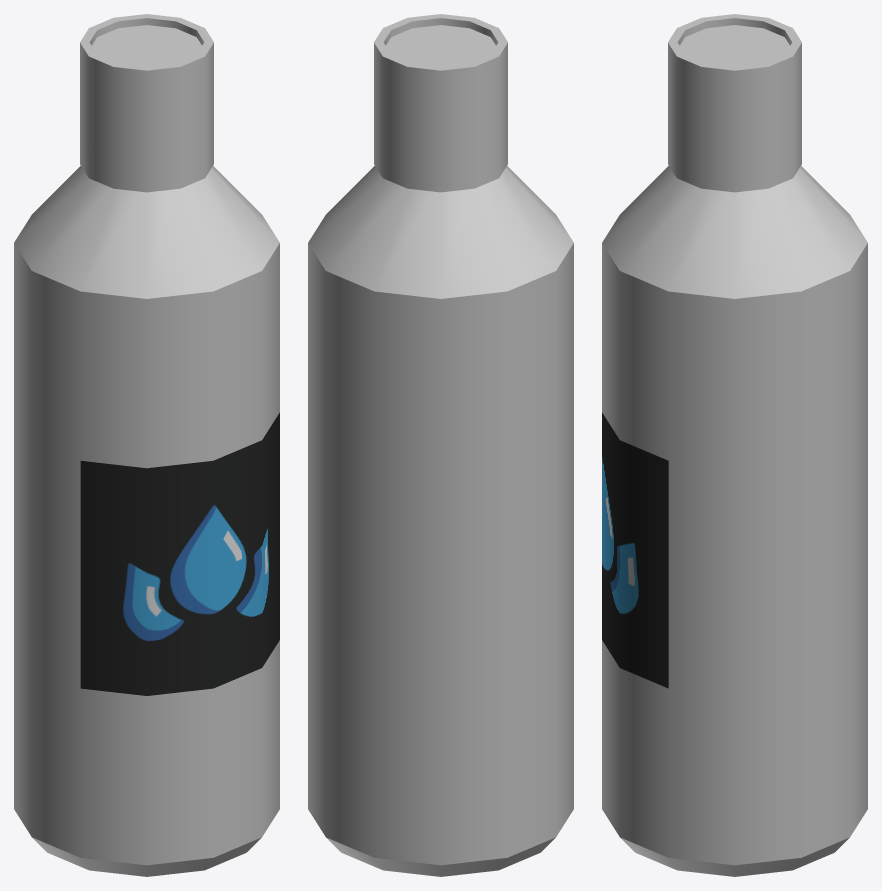
The model's file is PlasticBottle_02.fbx.
The picture shows the model from 3 angles, left to right: view 1: azimuth 30°, elevation 25°; view 2: azimuth 150°, elevation 25°; view 3: azimuth 270°, elevation 25°; orthographic projection.
Parts seen in each view (by area): view 1: PlasticBottle_02, PlasticBottle_02_Cap; view 2: PlasticBottle_02, PlasticBottle_02_Cap; view 3: PlasticBottle_02, PlasticBottle_02_Cap.
Boxes of the visible parts, <box> form: PlasticBottle_02: <box>14,166,279,876</box>; PlasticBottle_02_Cap: <box>80,14,213,192</box>; PlasticBottle_02: <box>308,166,573,876</box>; PlasticBottle_02_Cap: <box>374,14,507,192</box>; PlasticBottle_02: <box>602,166,867,876</box>; PlasticBottle_02_Cap: <box>668,14,801,192</box>.
Size of the model in its own units: 0.1448 by 0.4721 by 0.1448.
